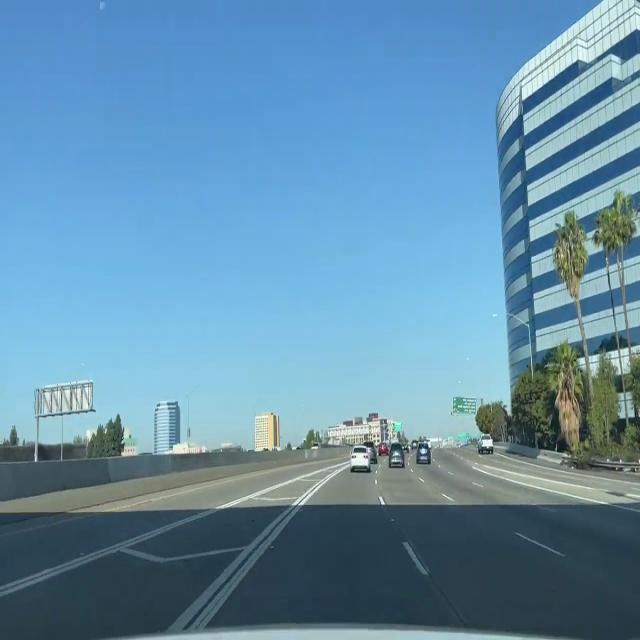street-signs: (451, 398, 477, 416), (394, 421, 403, 433), (457, 432, 462, 442)
